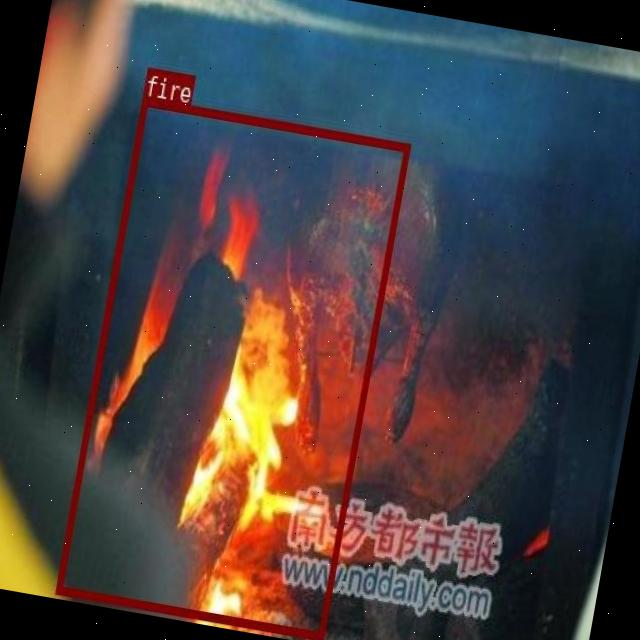fire: (55, 94, 410, 638)
